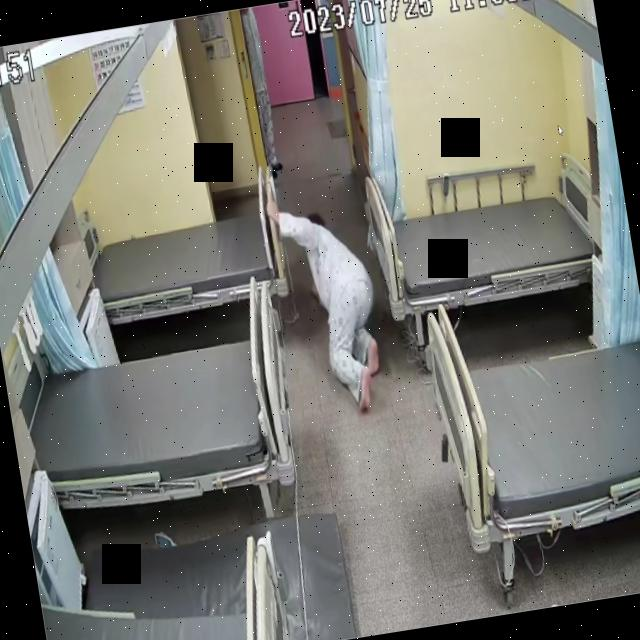bed: (419, 274, 640, 550), (18, 324, 302, 516), (364, 168, 614, 322), (88, 198, 290, 324)
fall: (262, 185, 393, 423)
patient: (264, 185, 392, 421)
